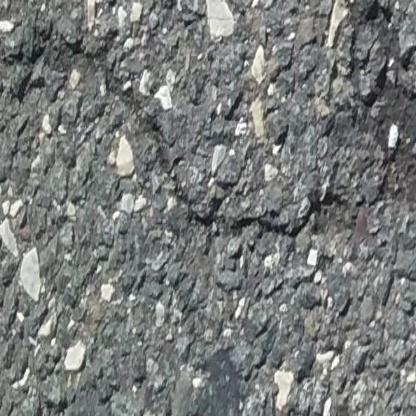Cracks: (0, 35, 349, 241), (305, 0, 416, 215)
